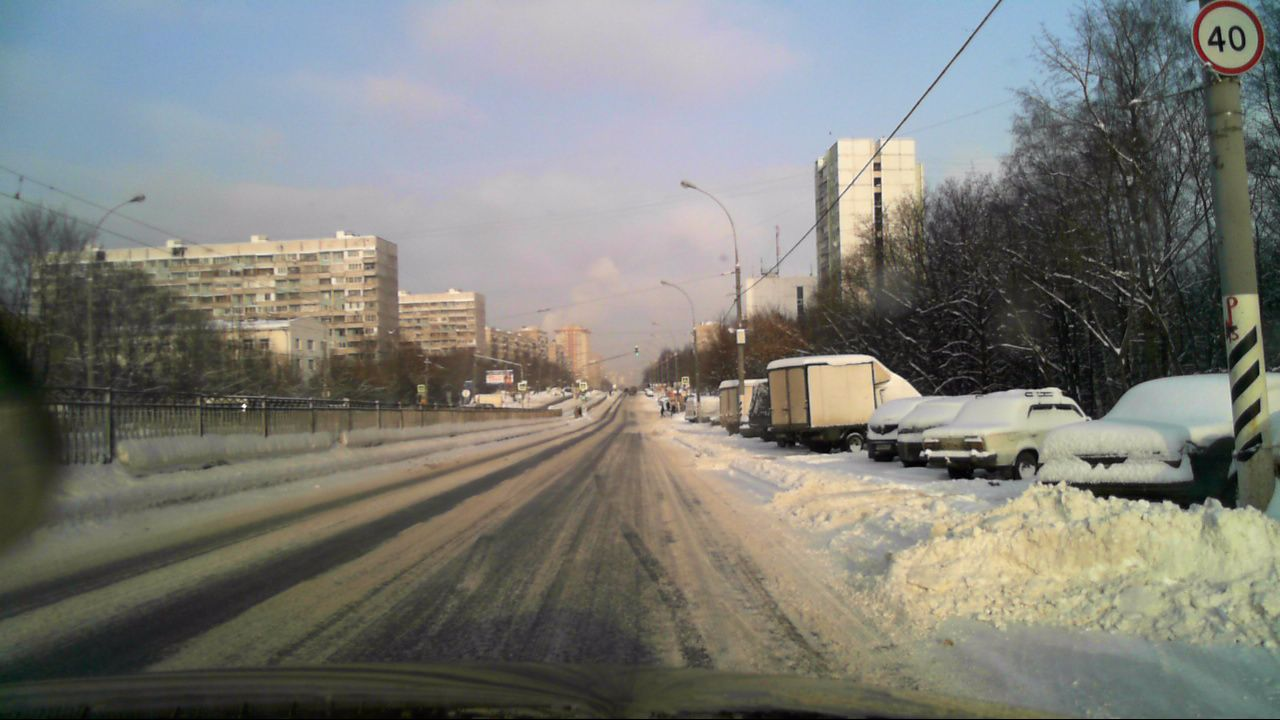speed_warning_40: (1192, 0, 1266, 77)
